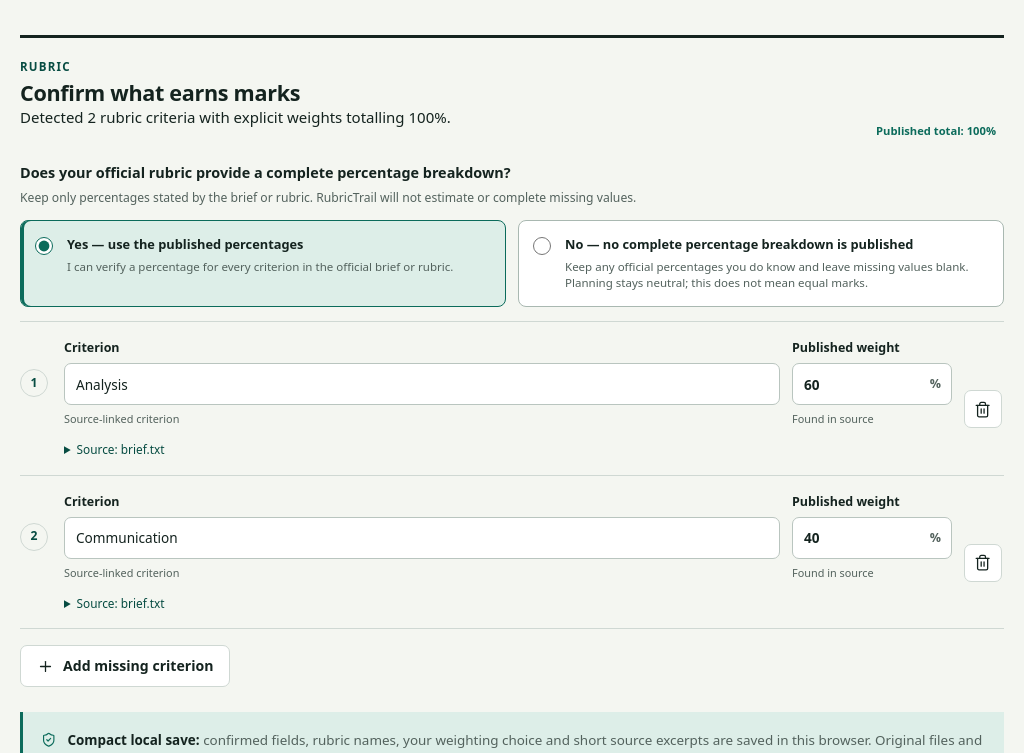
Test: UploadSummaryView rubric weighting › keeps criterion provenance when only a published weight is edited
The image size is (1024, 753).
(page scrolled)
Expected: the text "Source-linked criterion" is shown 2 times, [64,412,179,426]; [64,565,179,580]
Replace the text in the number field with test id "criterion-weight-0" with "55" at point(872, 384), box [792,364,952,406]
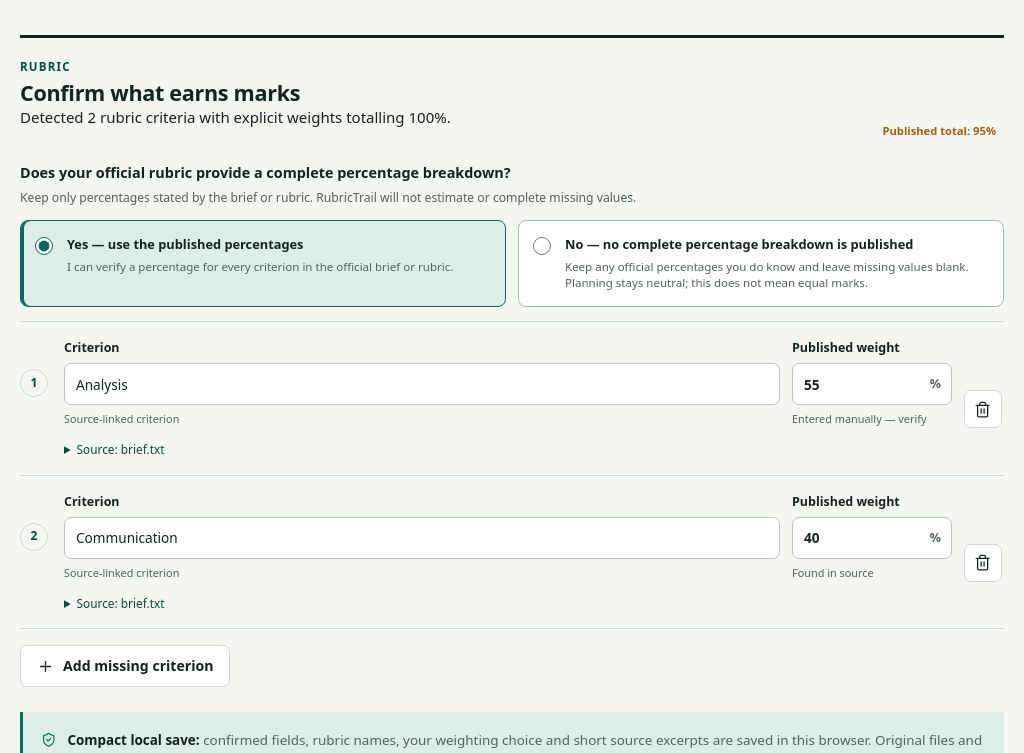
Expected: the text "Source-linked criterion" is shown 2 times, [64,412,179,426]; [64,565,179,580]
Result: the text "Entered manually — verify" is shown at [792,412,926,426]
